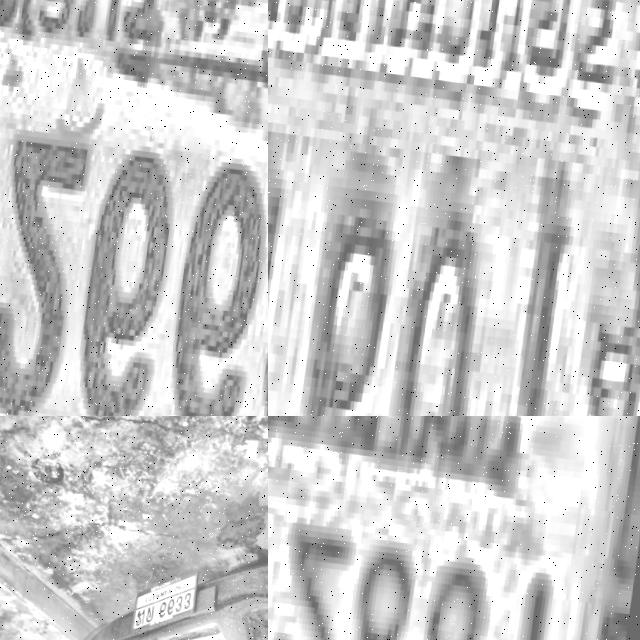license-plate: (268, 0, 640, 416), (0, 0, 268, 416), (268, 416, 640, 640), (132, 556, 203, 639)
